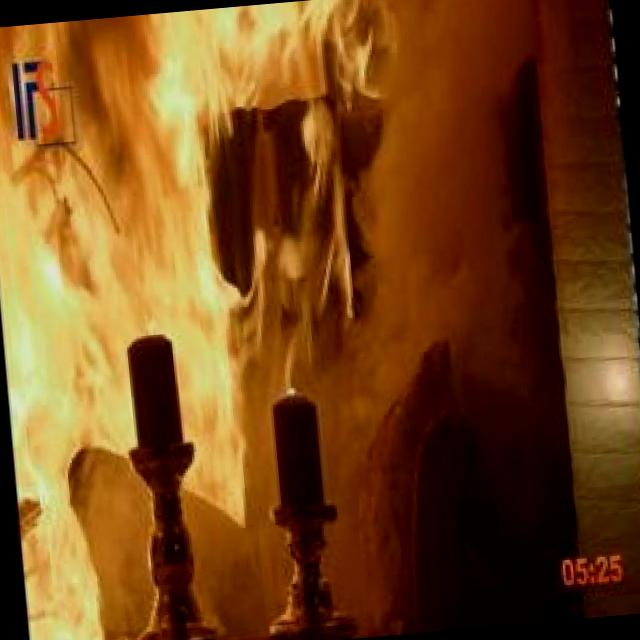fire: (0, 3, 327, 640)
